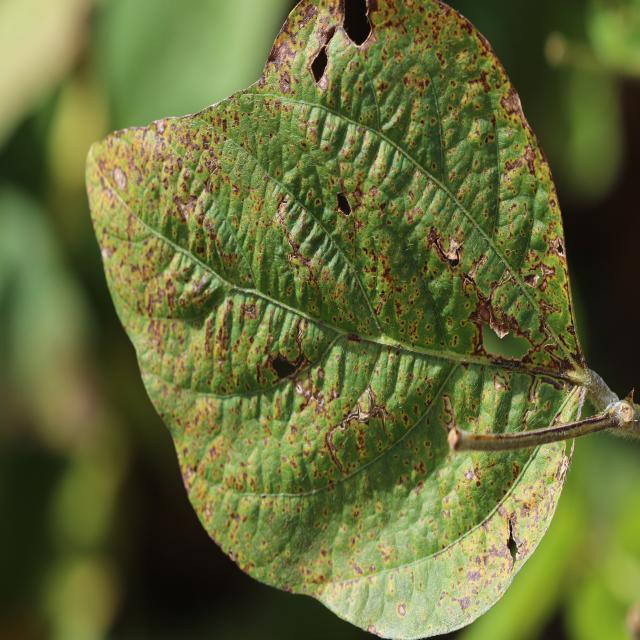Bacterial_Blight: (85, 129, 182, 292), (462, 258, 544, 348), (328, 385, 394, 472), (269, 0, 307, 84), (94, 123, 177, 161), (501, 128, 546, 197), (568, 363, 627, 413), (276, 197, 316, 270), (270, 319, 314, 379), (449, 424, 523, 455), (366, 0, 415, 41), (332, 160, 357, 230), (503, 509, 524, 568), (434, 234, 464, 271), (200, 95, 235, 120), (466, 318, 485, 355), (500, 86, 523, 116), (441, 393, 458, 432), (547, 236, 565, 258), (426, 226, 441, 247), (522, 272, 540, 288)
Soybean: (86, 0, 640, 640)
